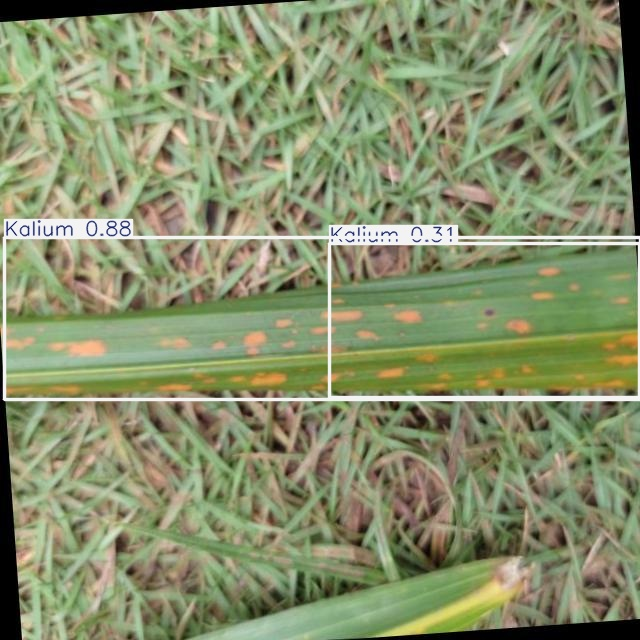Kalium: (5, 237, 640, 399), (330, 243, 640, 398)
